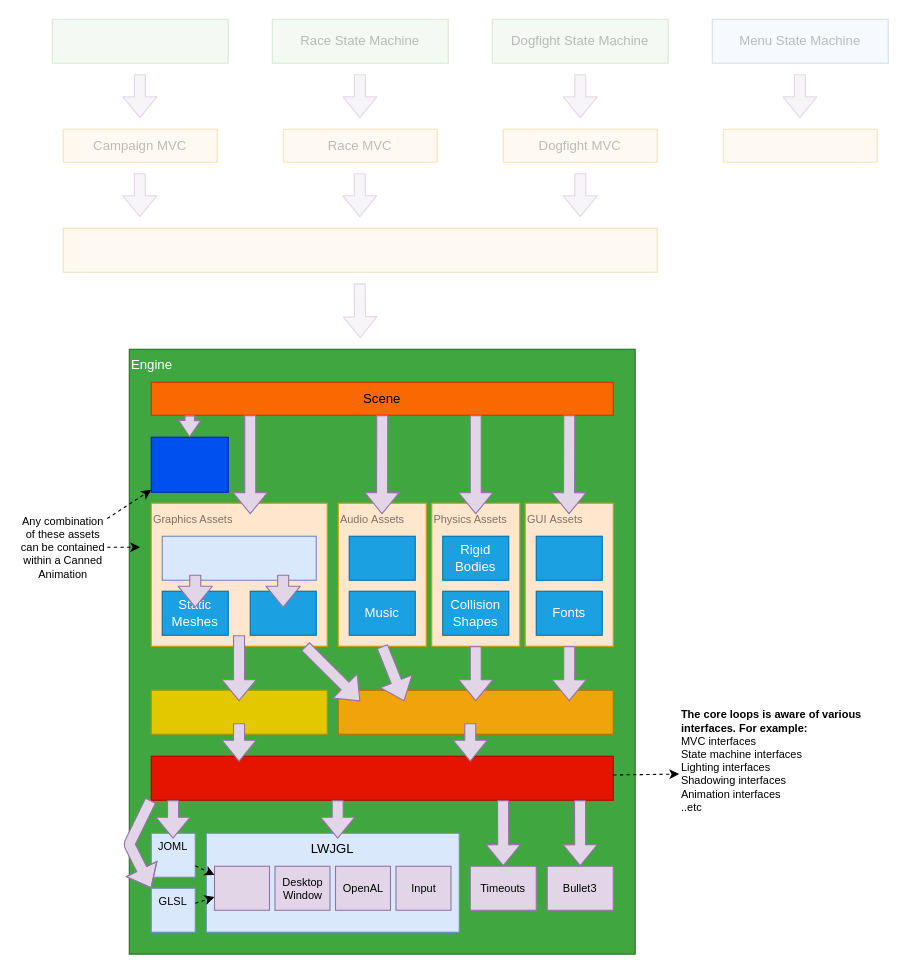
Image size: 908x974. Some labels were removed from this diagram. The shapes that lost their labels are listed below. From the top down, each one's centre as x and y in pixels, then its label:
At (139,40): "Campaign State Machine".
At (799,145): "Menu MVC".
At (359,249): "World MVC".
At (189,464): "Canned Animations".
At (238,557): "Particle Systems".
At (381,557): "Sounds".
At (568,557): "Widgets".
At (282,612): "Sprites".
At (238,711): "Lighting and Shadows".
At (475,711): "Animation System".
At (381,777): "Core Loop".
At (241,887): "OpenGL".
